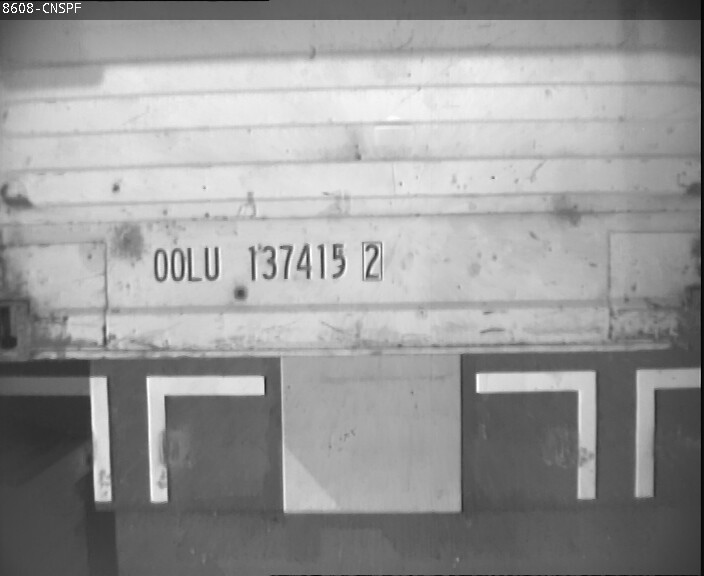groundmarker_1: (1, 374, 264, 504), (473, 369, 704, 498)
